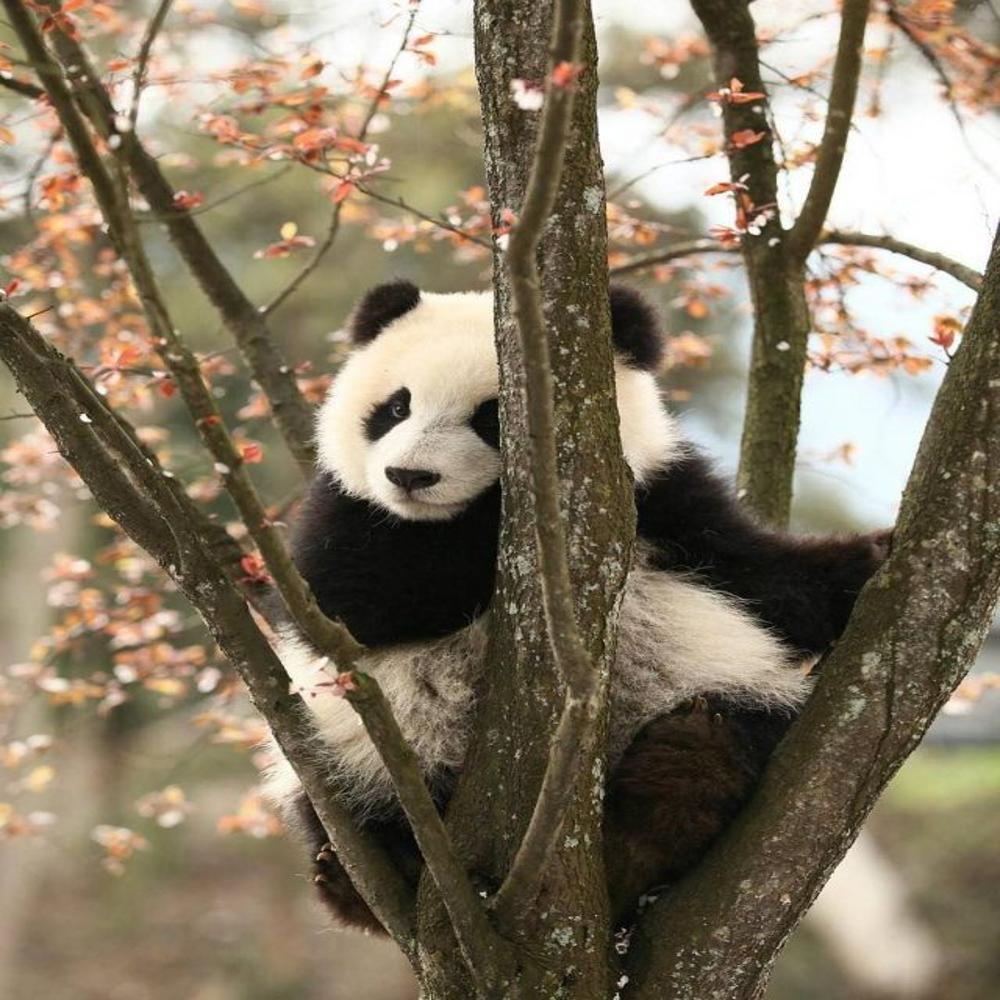panda: (294, 276, 904, 925)
